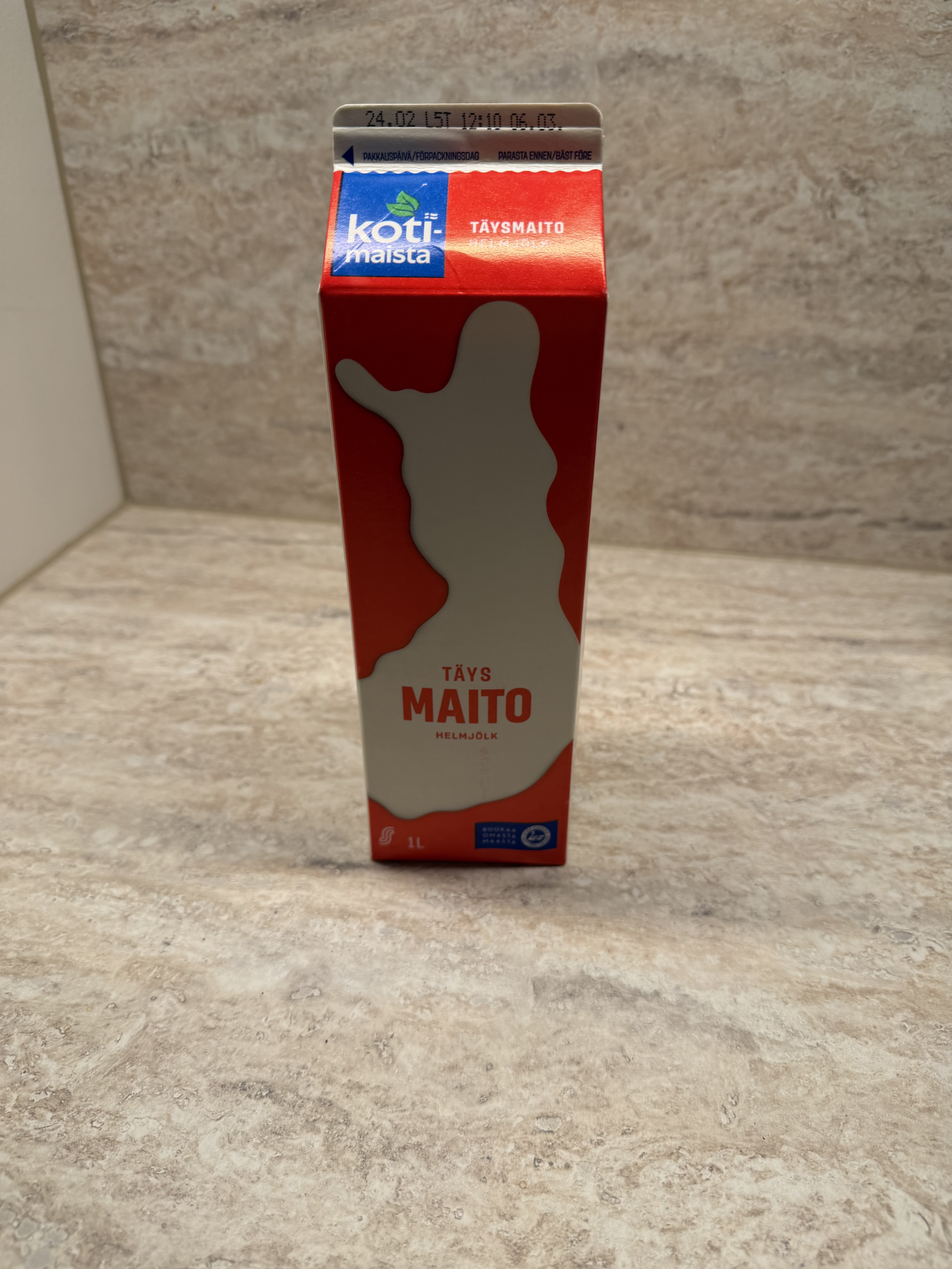Dryckeskartong: (316, 95, 611, 879)
